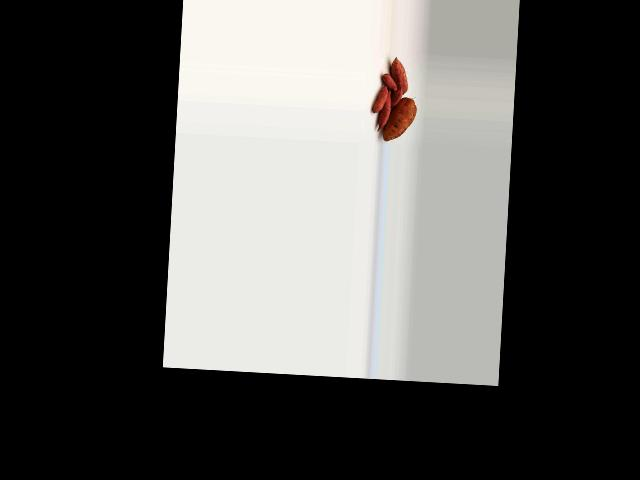sweet_potato: (389, 55, 409, 93)
